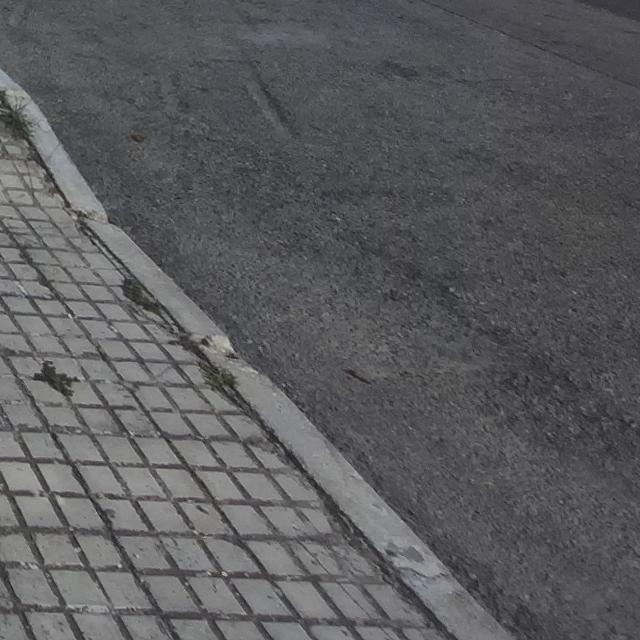calcada_quebrada: (296, 539, 393, 640)
